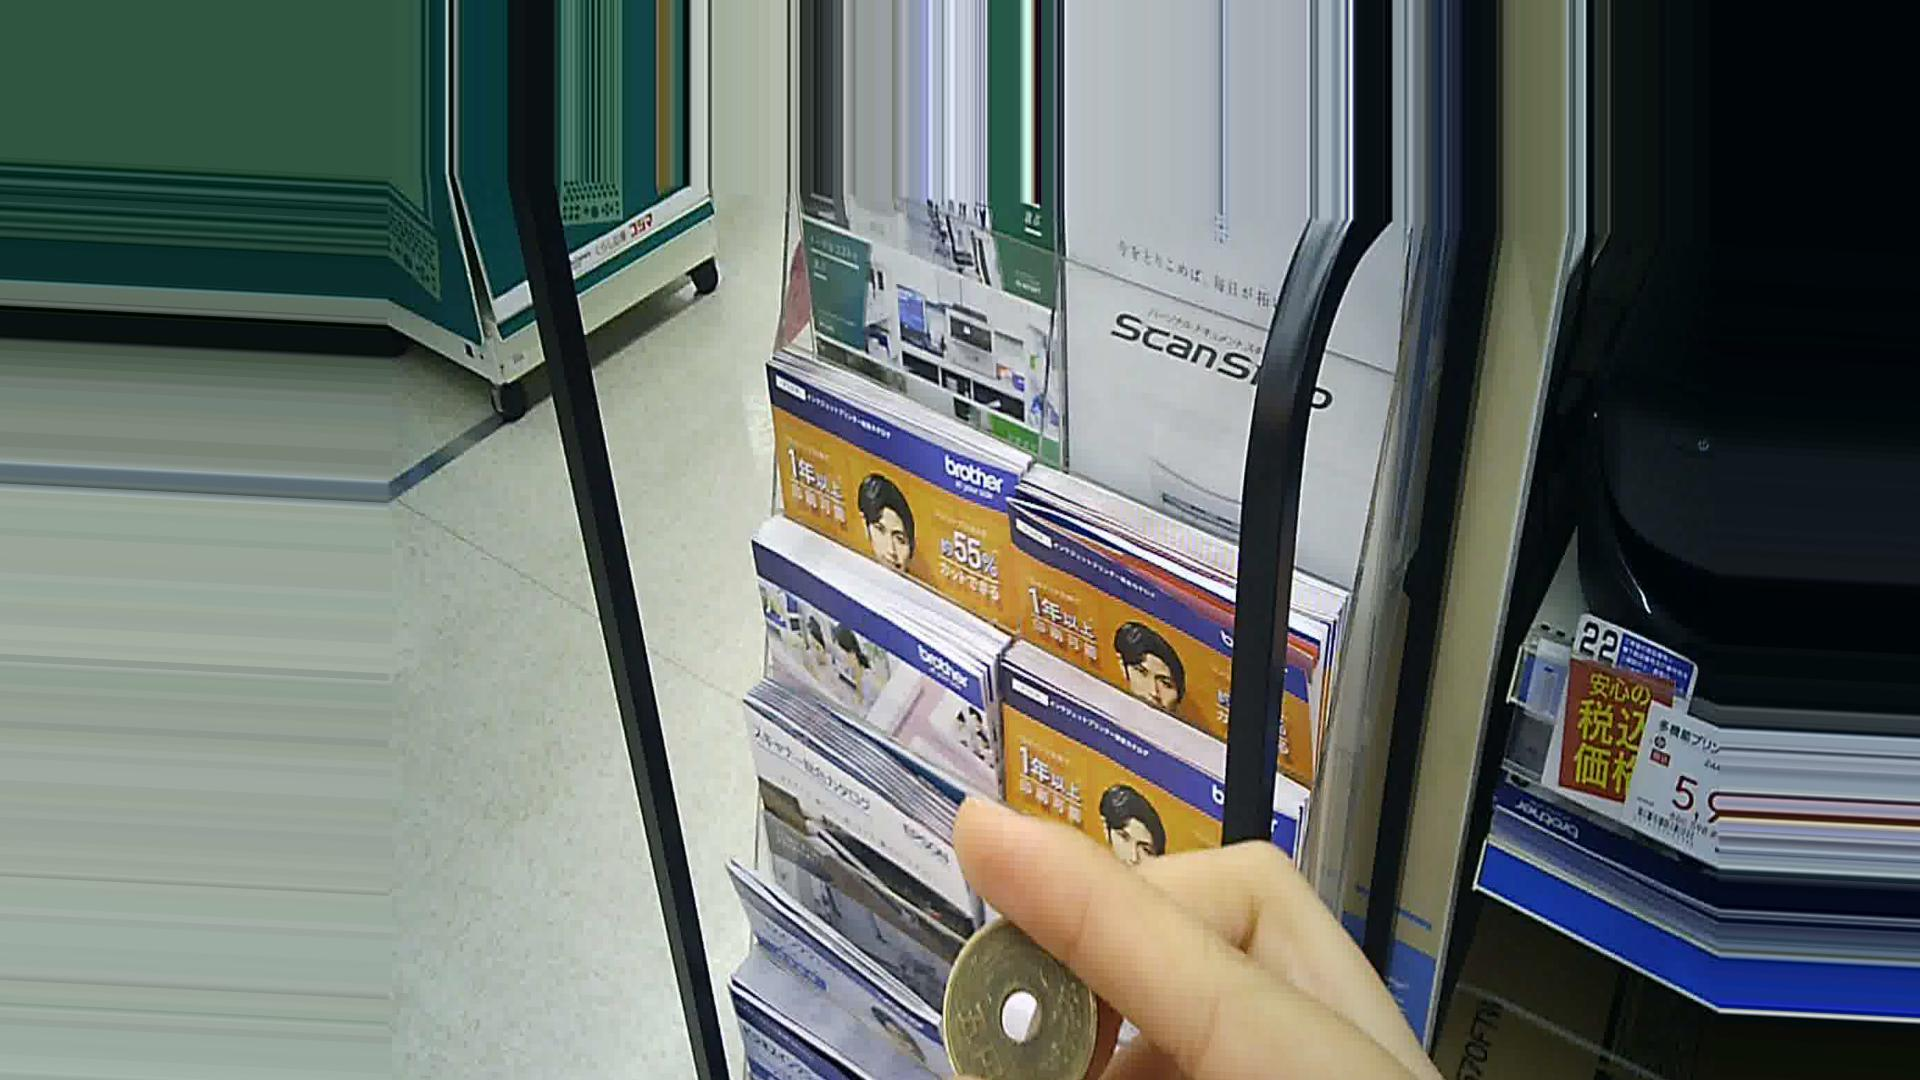5 Yen: (935, 910, 1087, 1079)
